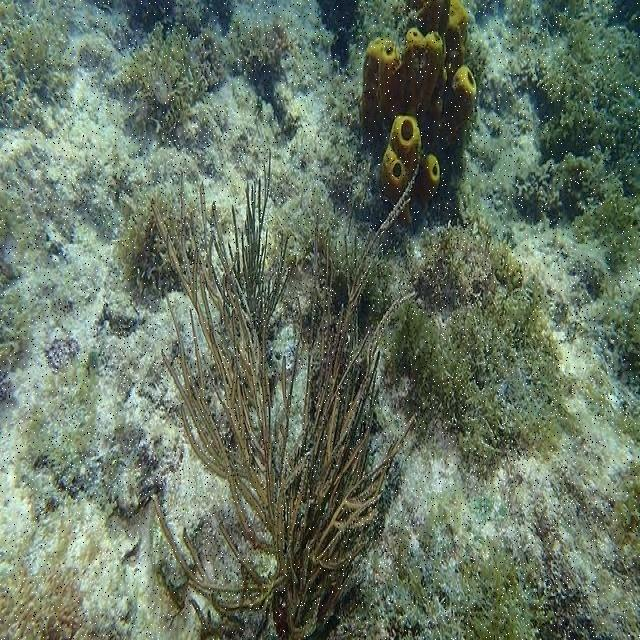aquatic plants: (151, 147, 417, 637), (385, 219, 584, 474), (509, 1, 639, 376), (105, 13, 293, 145)
reefs: (361, 0, 479, 223)
